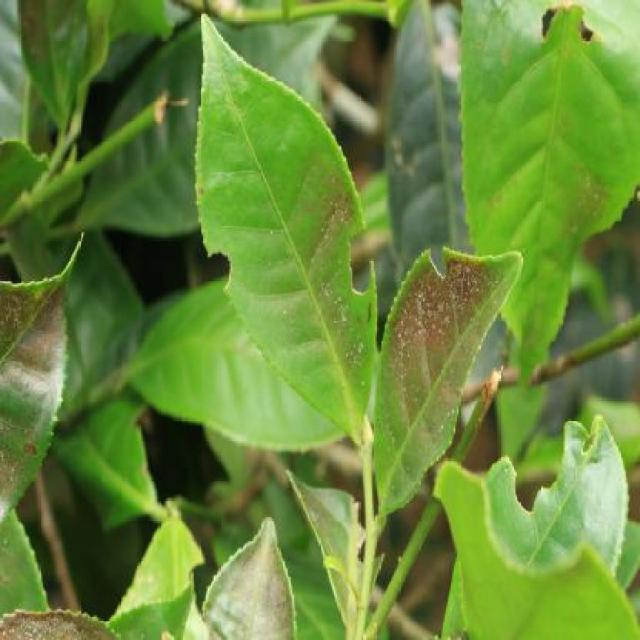Red Spider infested tea leaf: (195, 63, 392, 479), (386, 259, 543, 526), (0, 237, 82, 560)
